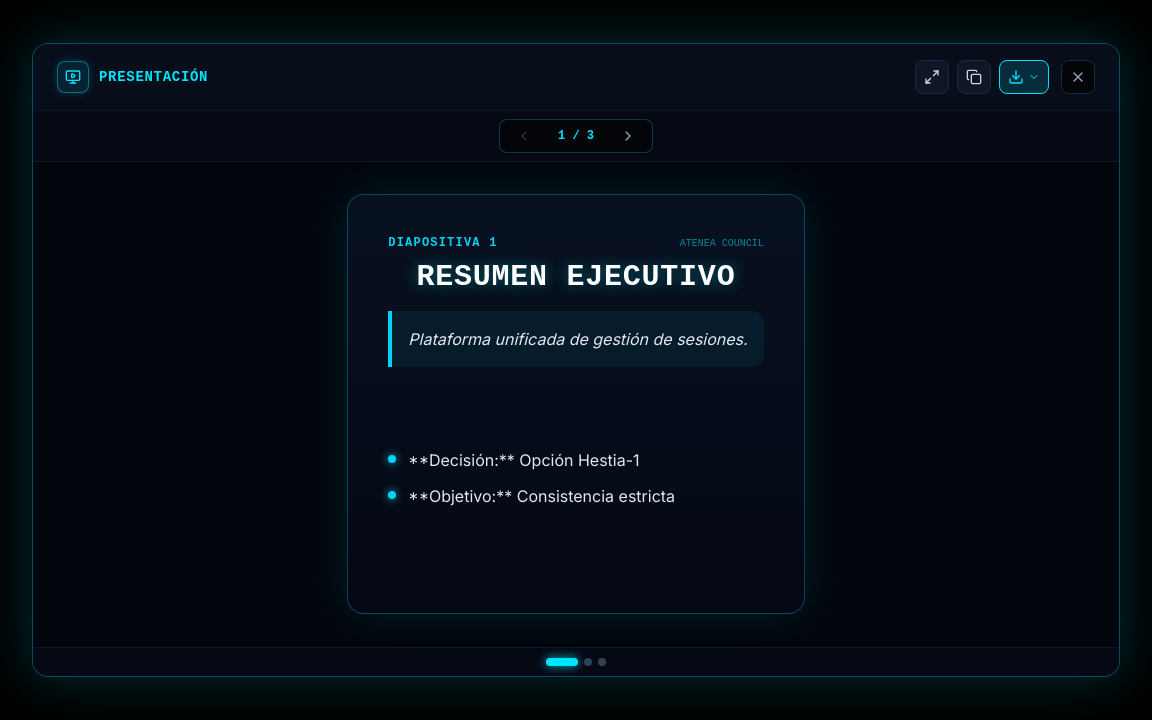
PresentationModal.vue › navigates slides on touch swipe left and swipe right
Expected: the text with test id "slide-counter" reads "1 / 3", [558,129,594,143]
Press the mouse on the element with test id "presentation-slide-canvas" at (576, 404), box [347,194,805,614]
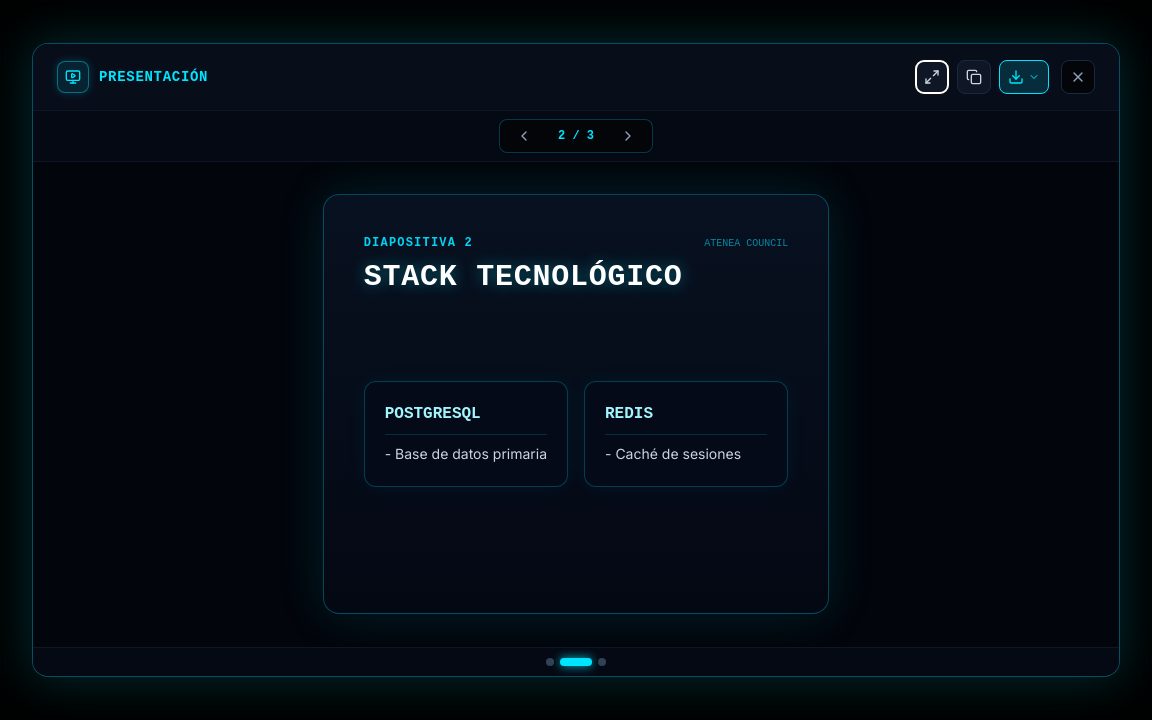
Expected: the text with test id "slide-counter" reads "2 / 3", [558,129,594,143]
Press the mouse on the element with test id "presentation-slide-canvas" at (576, 404), box [323,194,829,614]
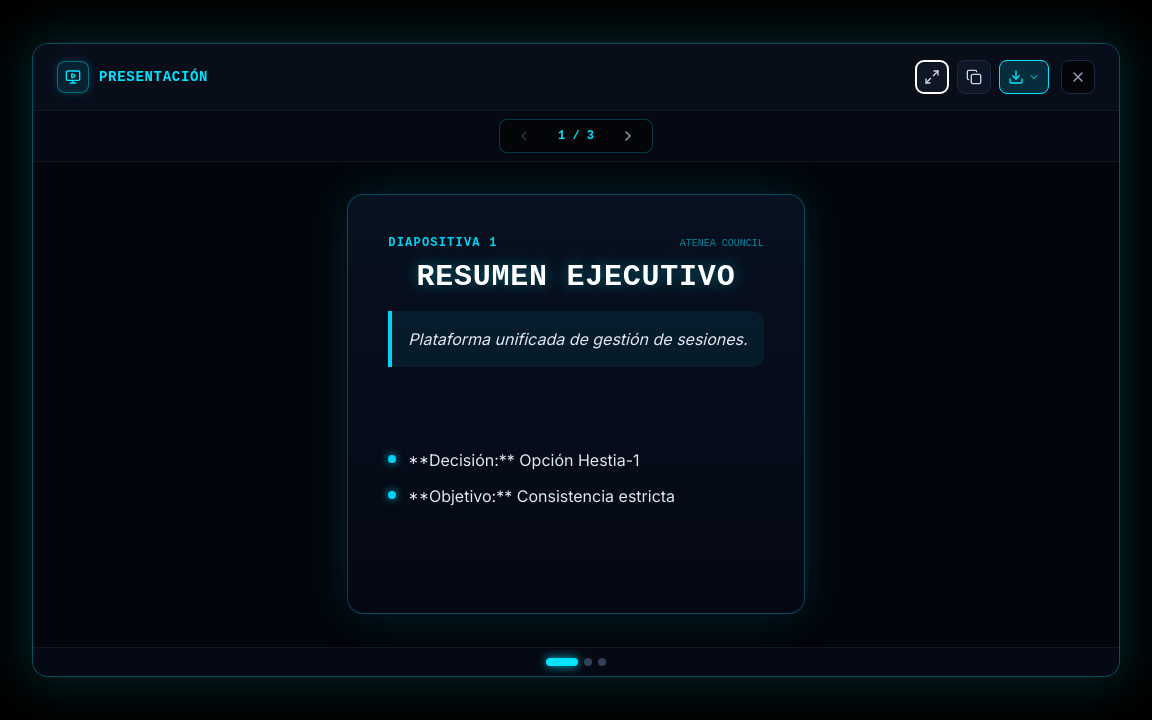
Expected: the text with test id "slide-counter" reads "1 / 3", [558,129,594,143]
